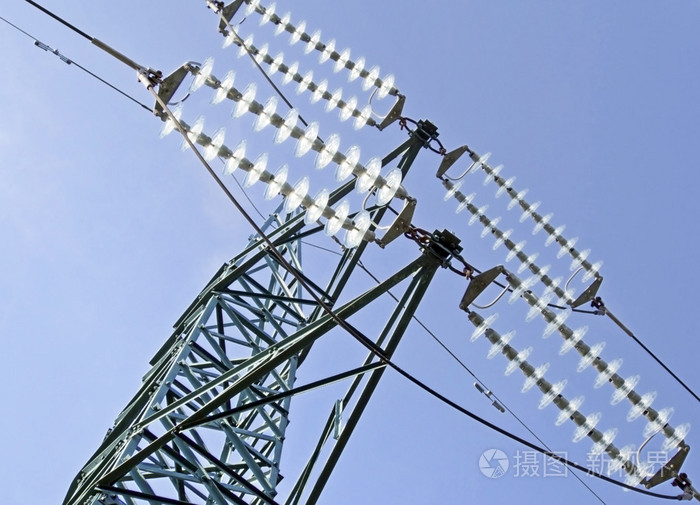insulator: (469, 277, 688, 490), (165, 57, 401, 245), (452, 152, 599, 307), (234, 2, 393, 126)
